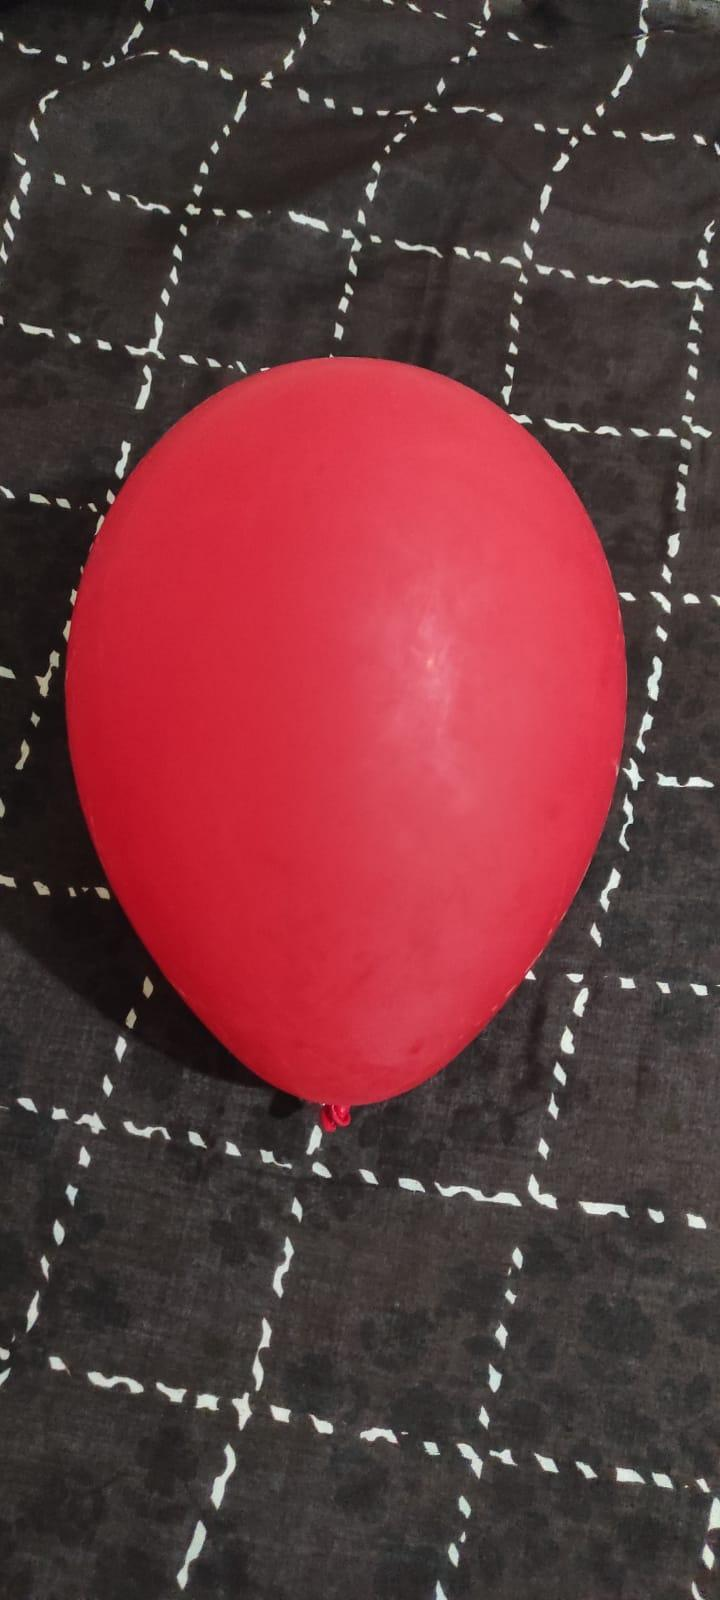red: (51, 347, 631, 1130)
